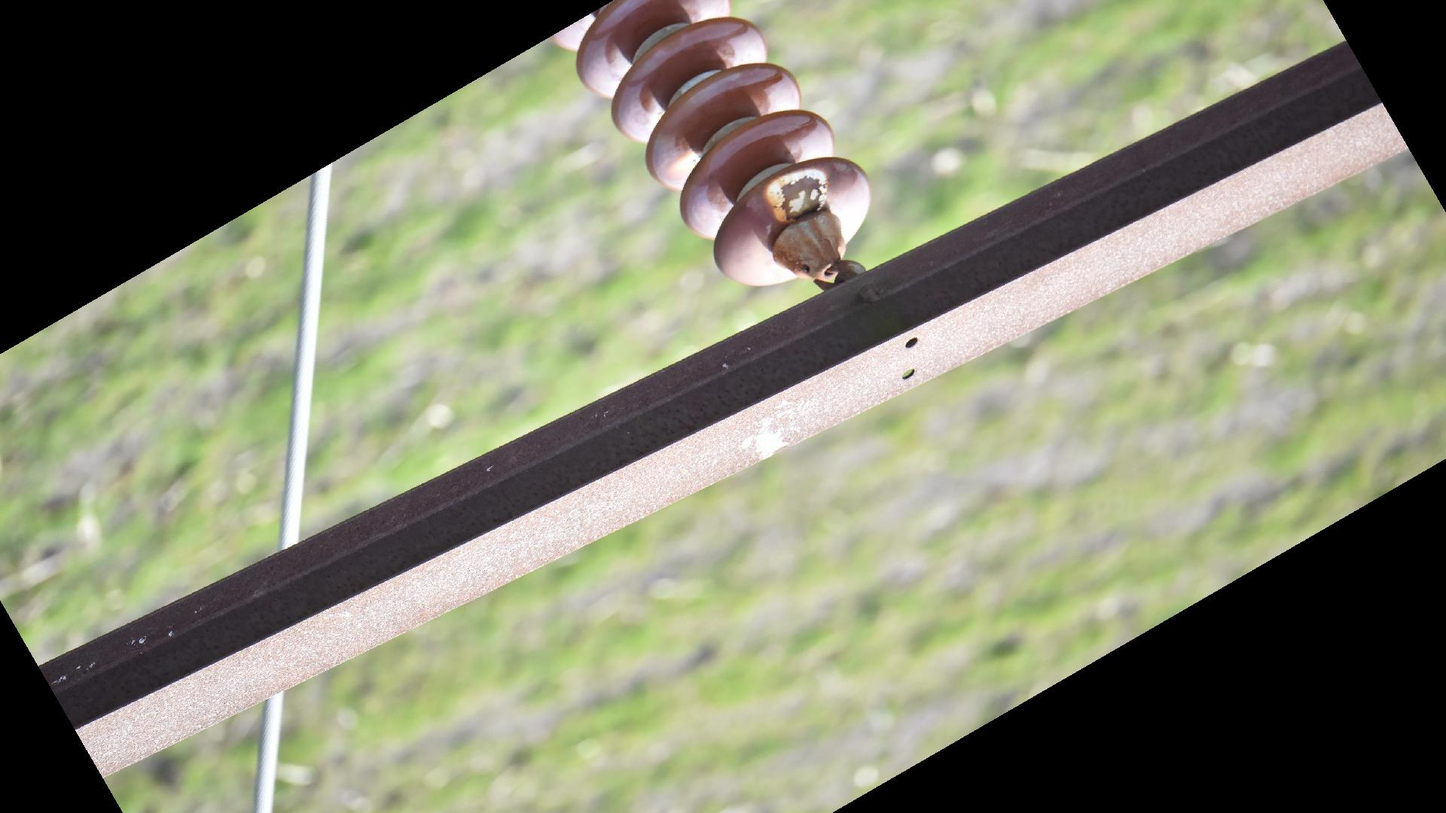insulator: (548, 1, 876, 291)
insulator_flashover: (762, 166, 831, 226), (660, 148, 705, 183)
